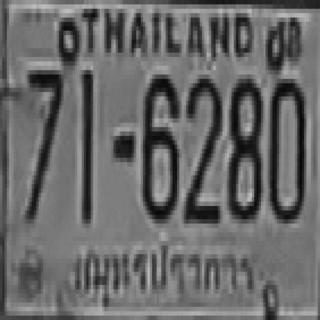N00: (268, 74, 304, 219)
N01: (79, 68, 91, 222)
N02: (184, 74, 220, 219)
N06: (141, 70, 177, 219)
N07: (25, 66, 61, 219)
N08: (227, 74, 261, 219)
P57: (73, 240, 258, 301)
